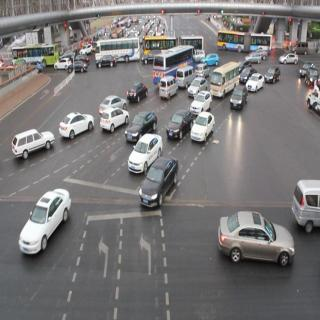Car: (218, 204, 296, 284), (143, 158, 177, 218)
